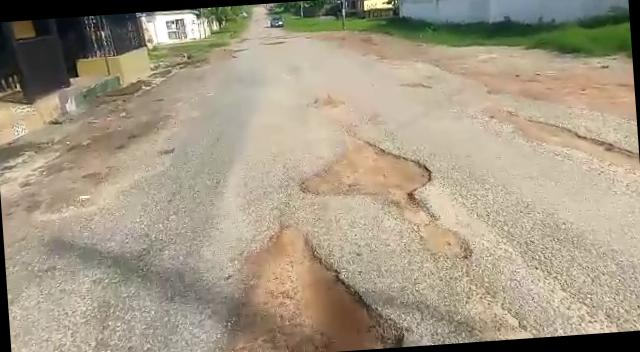pothole: (219, 217, 403, 352), (292, 132, 440, 206)
